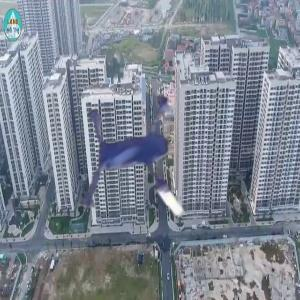drone: (42, 74, 235, 267)
